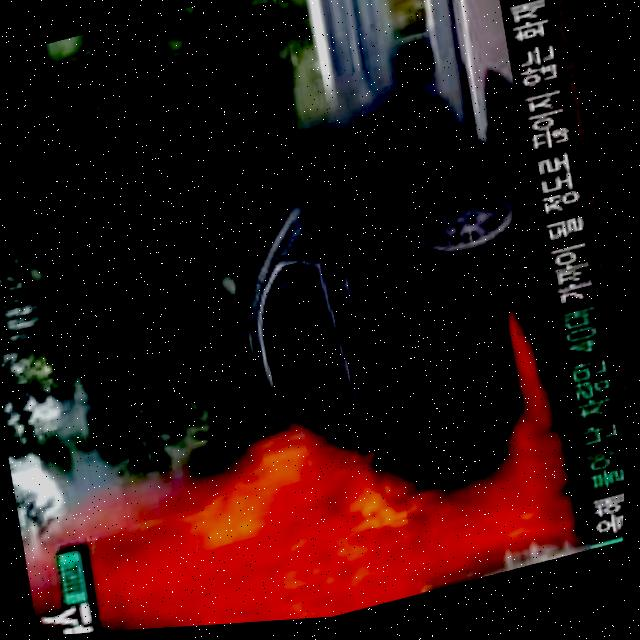Fire: (114, 407, 588, 633)
